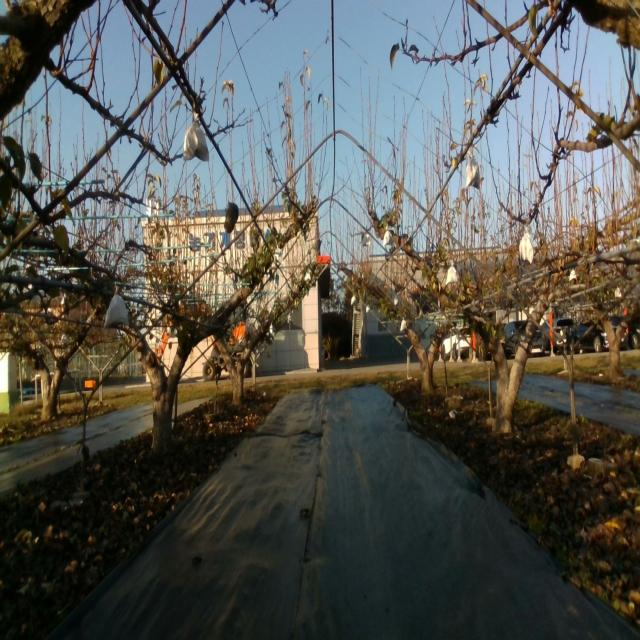pearbags: (183, 114, 211, 164), (104, 288, 130, 330), (444, 259, 460, 290), (466, 154, 480, 189), (518, 232, 533, 264)
